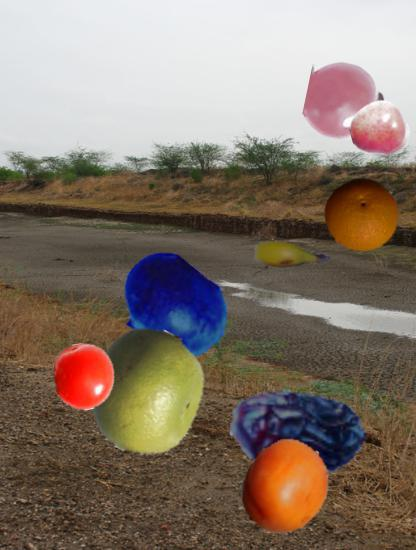Apricot: (237, 438, 333, 534)
Banana: (253, 218, 333, 298)
Cherry: (350, 100, 409, 159)
Dates: (230, 364, 366, 500)
Huckleberry: (117, 251, 230, 364)
Orange: (324, 176, 401, 253)
Pomelo: (84, 329, 211, 456)
Redcurrant: (306, 62, 387, 143)
Tomato: (51, 343, 119, 411)
